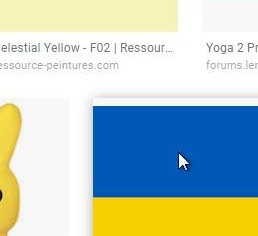cursor: (178, 152, 191, 171)
